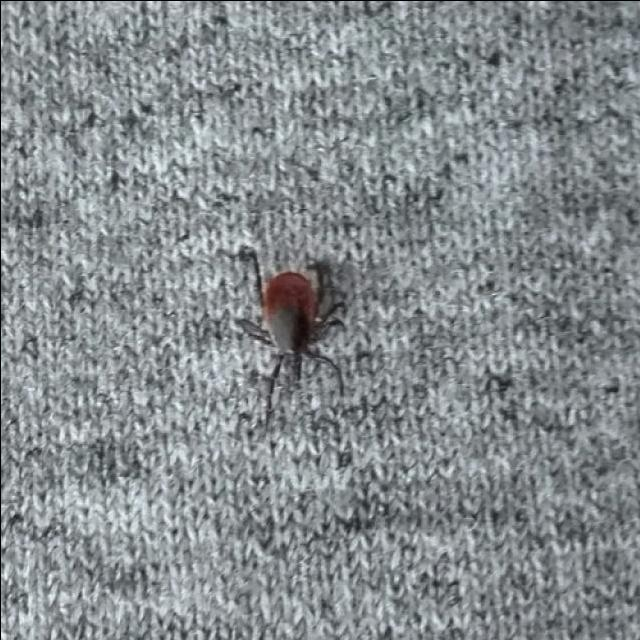Ixodes Ricinus-F: (233, 253, 344, 394)
